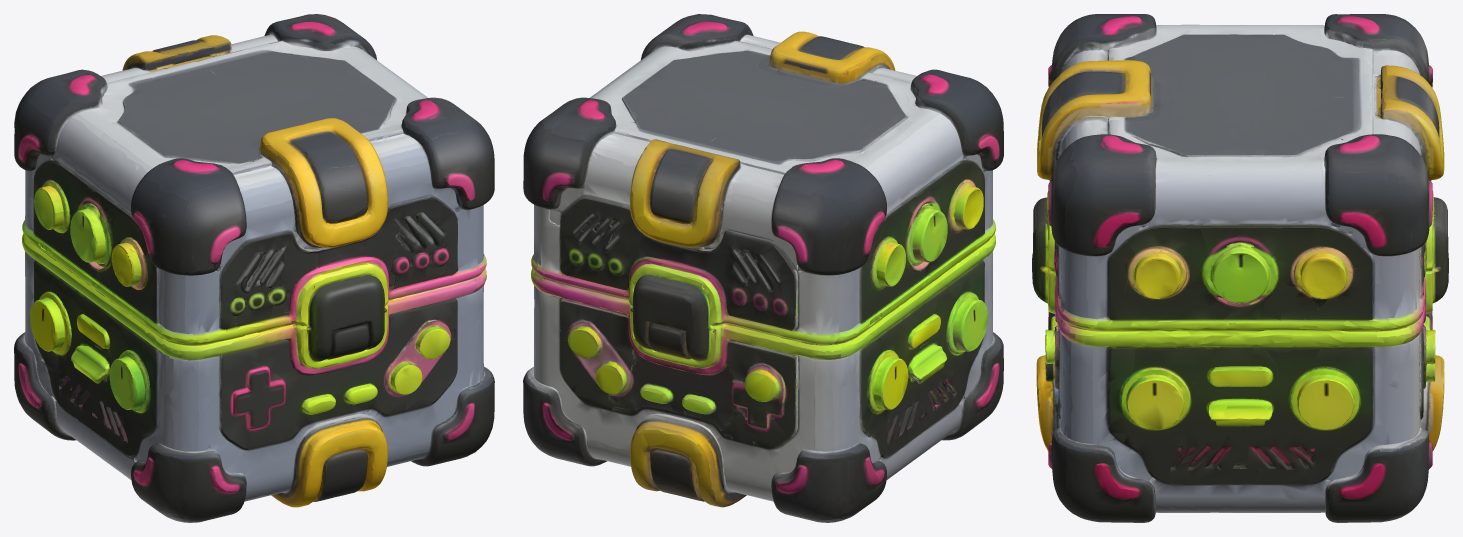
The model's file is u_prp_loot_case.glb.
3 views of the same model, side by side, from view 1: azimuth 30°, elevation 25°; view 2: azimuth 150°, elevation 25°; view 3: azimuth 270°, elevation 25° (orthographic). The views are drawn at different scales.
Parts seen in each view (by area): view 1: geometry_0; view 2: geometry_0; view 3: geometry_0.
Boxes of the visible parts, box(x1,y1,x2,y2) form: geometry_0: box(14, 14, 494, 522); geometry_0: box(523, 14, 1003, 522); geometry_0: box(1032, 14, 1448, 522).
Bounding box in the file's own units: 0.06 × 0.0587 × 0.059.
Materials: 1 (1 with a texture image).
